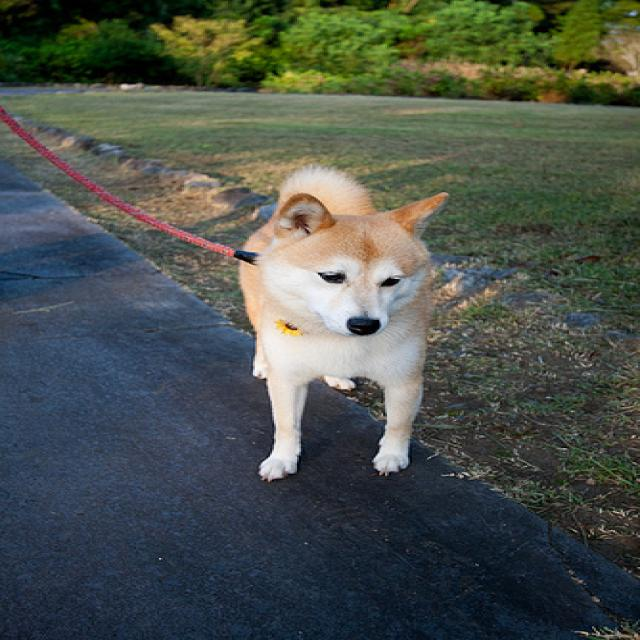dog-shiba_inu: (228, 159, 464, 484)
